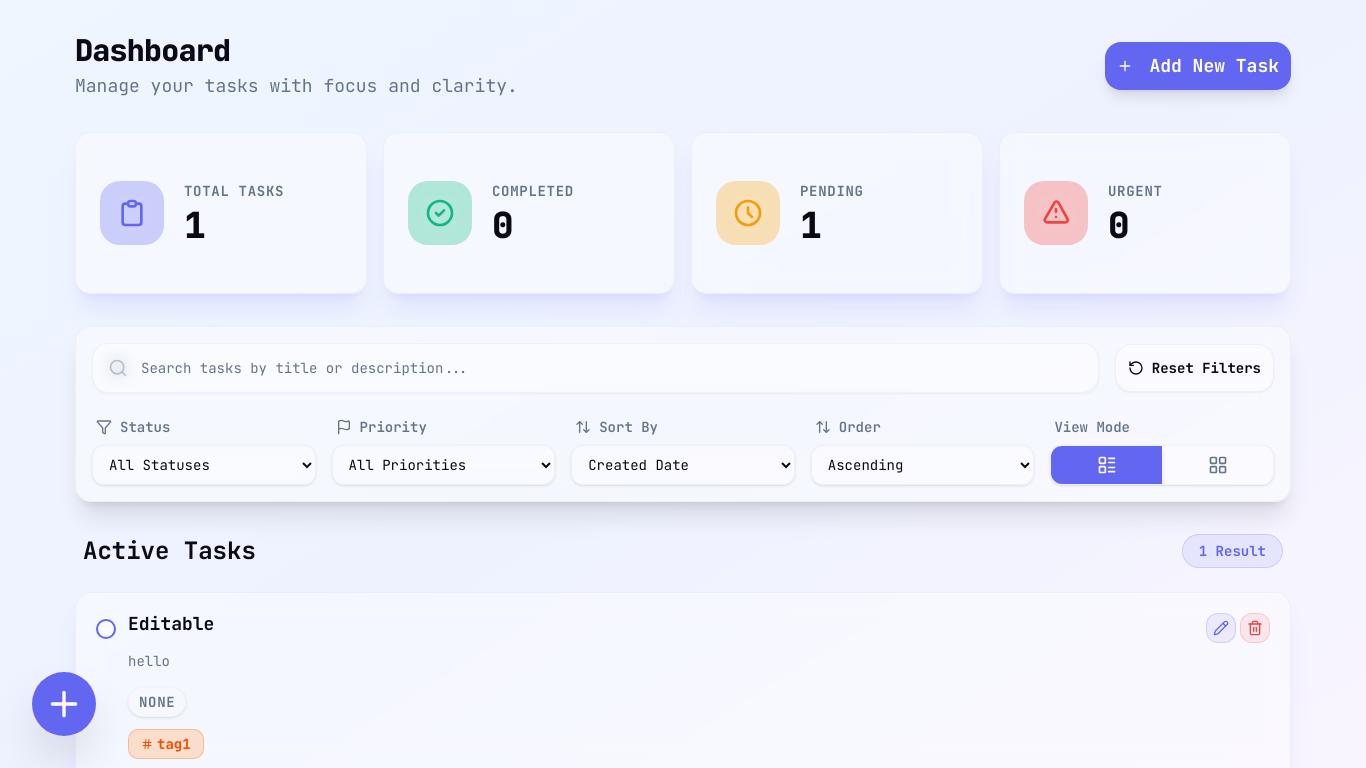
Test: DashboardPage task CRUD › opens edit modal when clicking edit button
This screenshot has width=1366, height=768.
Expected: the heading "Editable" is shown, [128,613,214,636]
What coordinates should you click on to do the following:
click the button named "Edit Task"
I would click on:
 (1221, 628)
Its box is [1206,613,1236,643].
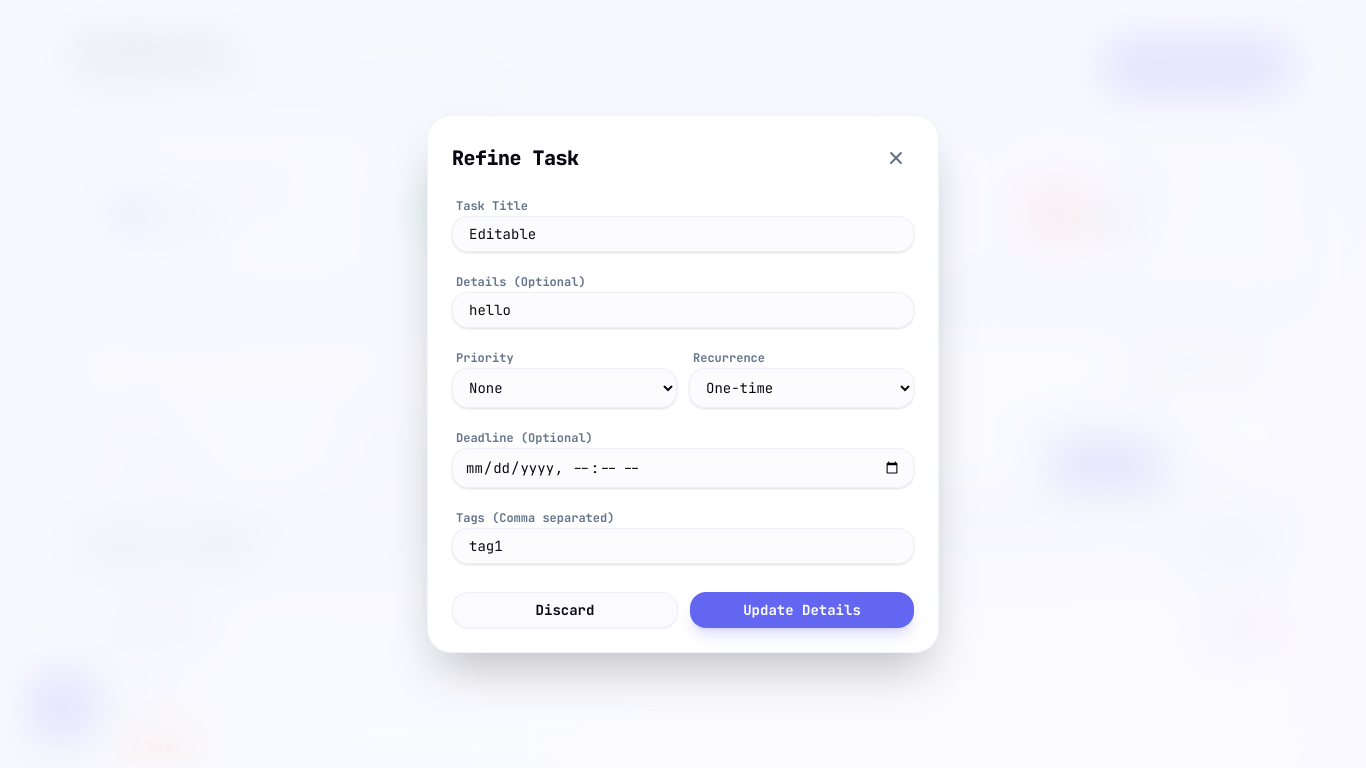
Expected: the heading "Refine Task" is shown, [452,144,578,172]
Expected: the field showing "Editable" below "Task Title" is shown, [452,216,914,252]
